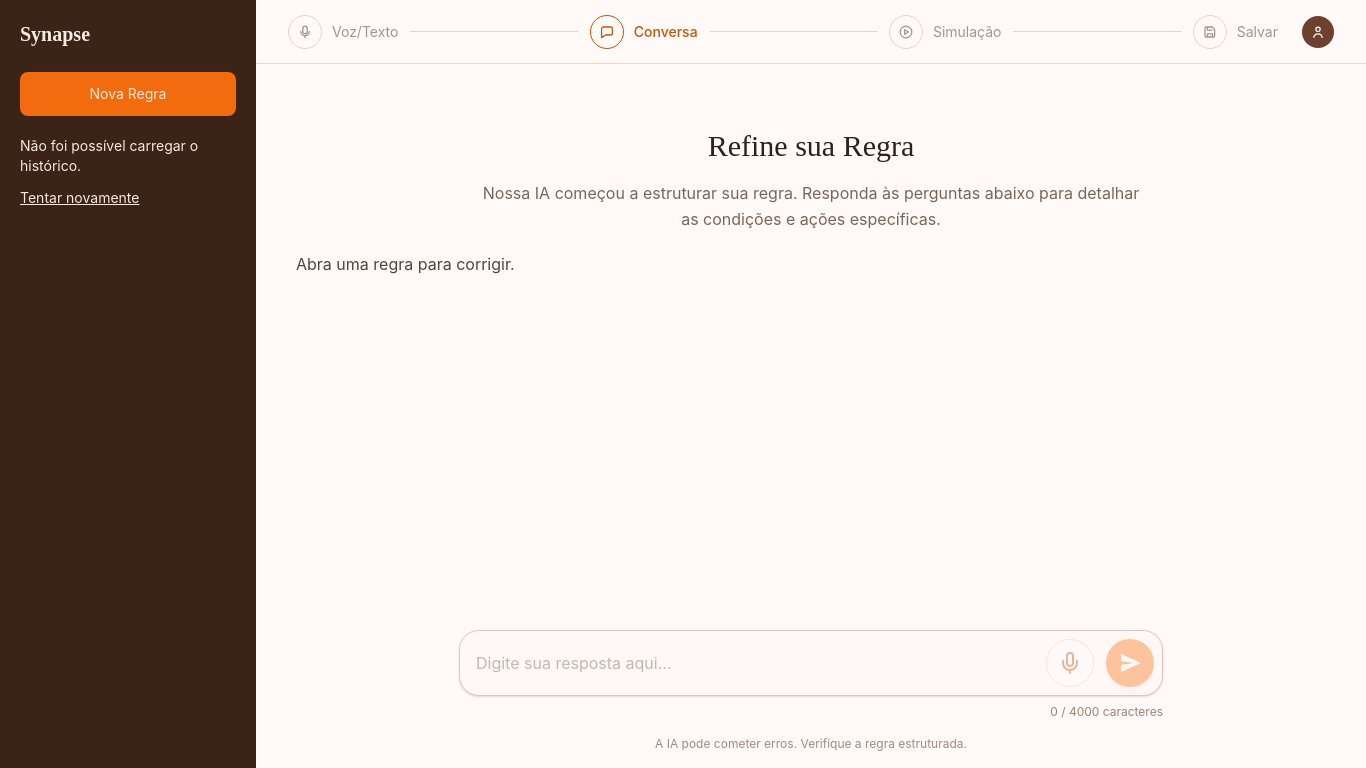
Scenario: visual do chatbot › permite tentar de novo sem mostrar o erro interno ou um historico vazio
Expected: the message "Não foi possível carregar o histórico. Tentar novamente" is shown, [20,137,198,208]
Expected: the text "Nenhuma regra criada ainda" is not shown
Click the button "Tentar novamente" at (80,198), box [20,188,140,208]
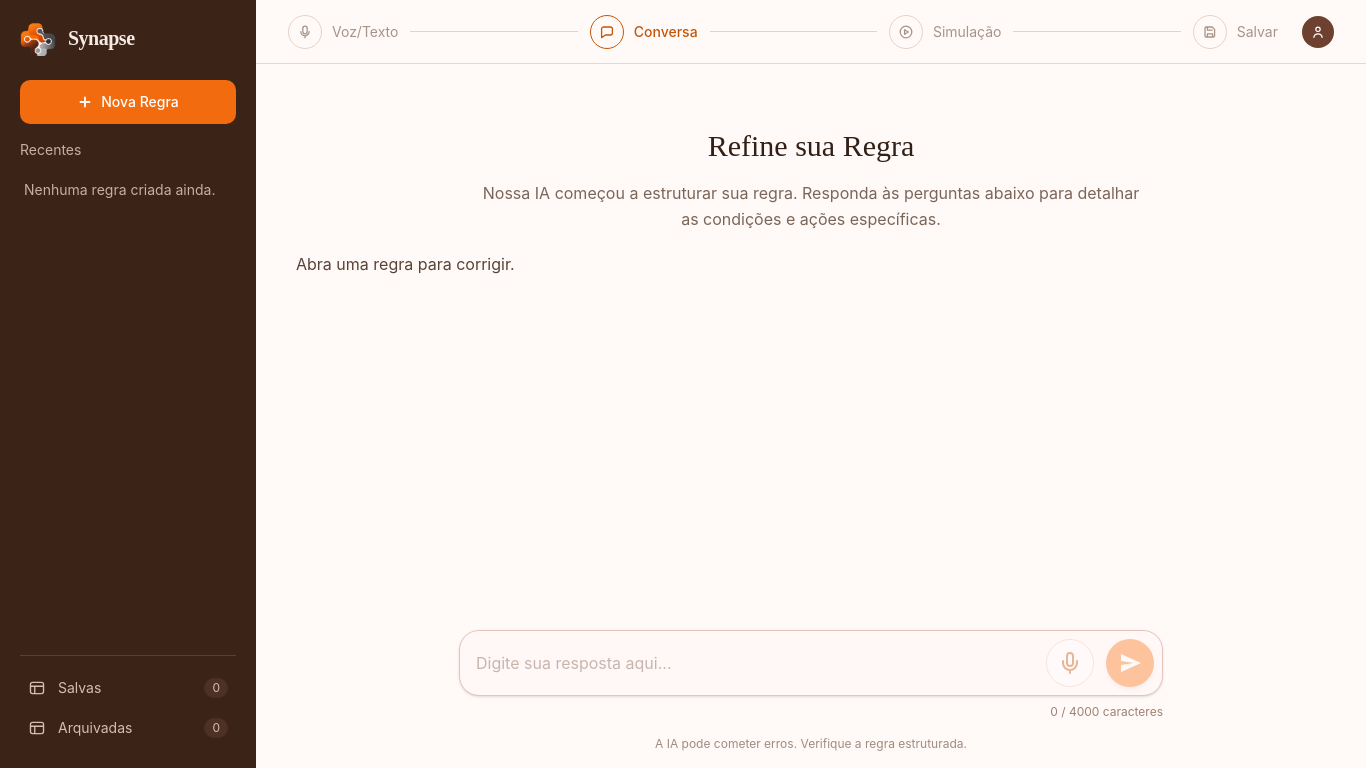
Expected: the text "Nenhuma regra criada ainda" is shown, [24,181,216,198]
